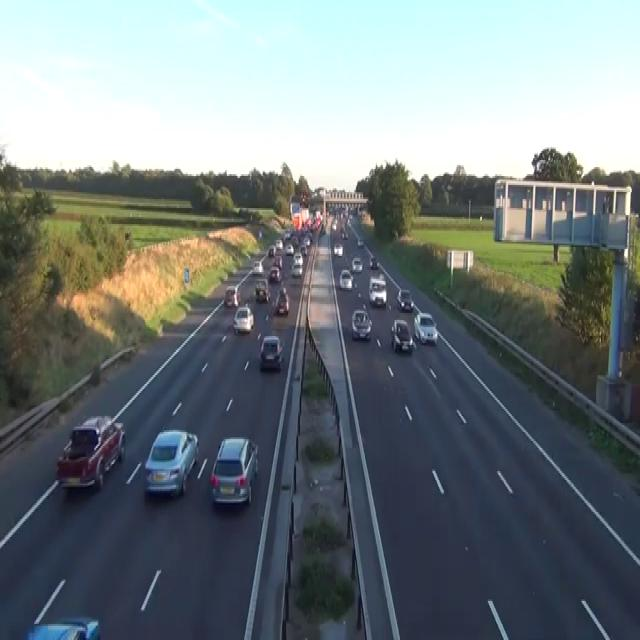Car: (56, 414, 125, 491), (23, 578, 101, 638), (144, 428, 199, 498), (210, 435, 258, 505), (24, 615, 100, 638), (259, 334, 283, 372), (413, 311, 438, 345), (390, 318, 413, 352), (232, 304, 254, 334), (351, 310, 371, 340), (368, 276, 387, 306), (396, 288, 414, 311), (224, 284, 241, 308), (274, 288, 289, 315), (254, 278, 270, 302), (339, 268, 353, 290), (268, 265, 280, 281), (351, 256, 362, 272), (252, 260, 263, 274), (291, 263, 302, 276), (333, 242, 343, 256), (293, 252, 303, 265), (273, 254, 282, 268), (369, 256, 379, 268), (285, 244, 294, 254), (300, 244, 307, 256), (340, 228, 348, 238), (124, 229, 131, 240), (268, 245, 275, 256), (275, 238, 282, 249), (283, 229, 290, 240), (357, 238, 364, 247), (304, 237, 311, 246), (331, 219, 337, 229), (346, 217, 351, 227), (321, 224, 326, 233), (258, 228, 262, 238)
